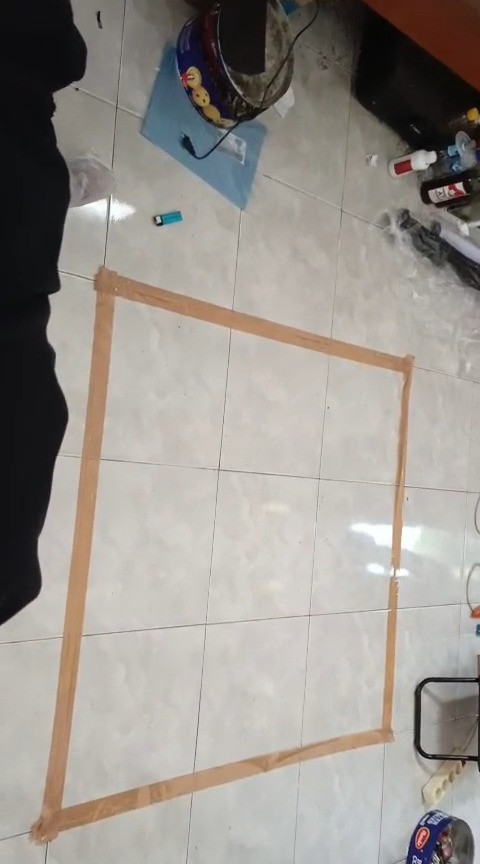floor marking: (32, 267, 413, 841)
